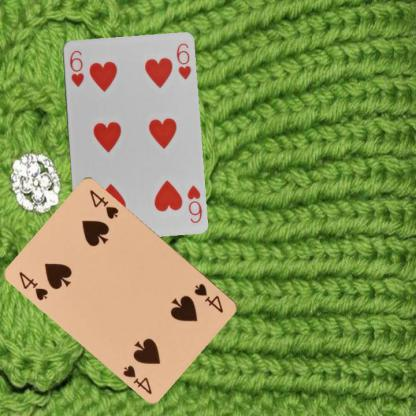4s: (16, 268, 50, 302), (192, 281, 225, 315)
6h: (184, 182, 203, 224), (66, 47, 85, 88)
